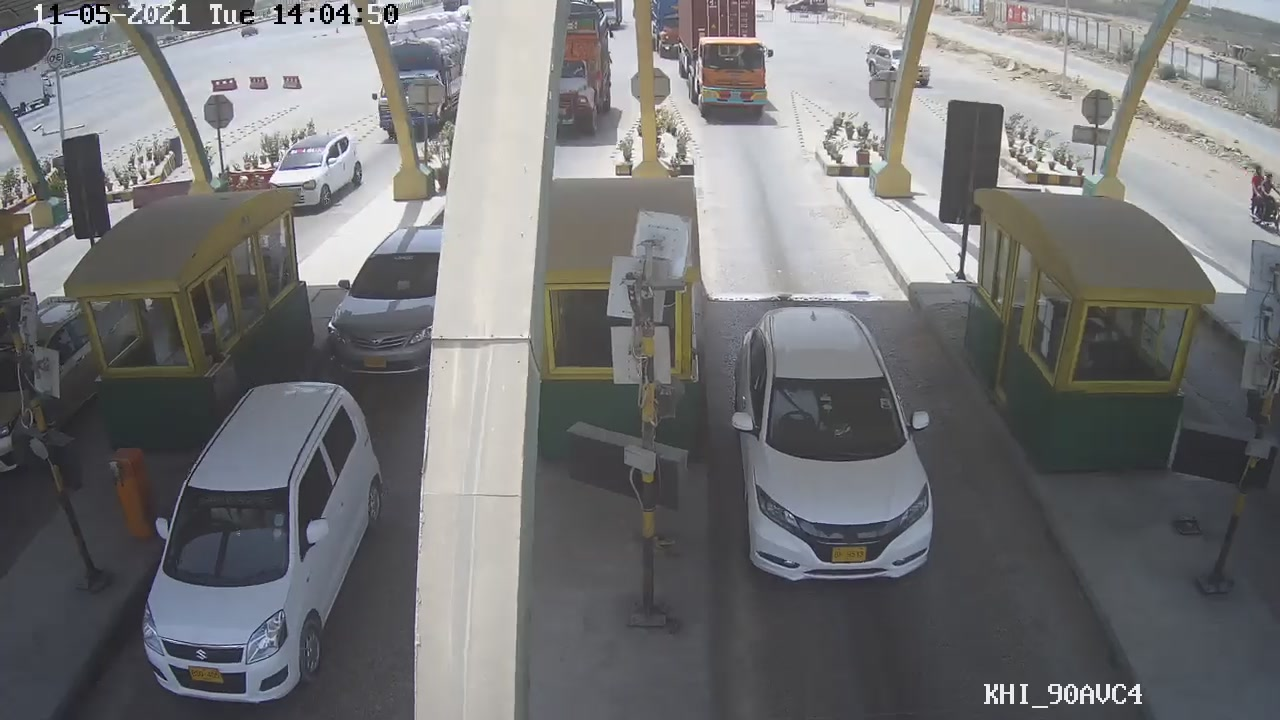F1: (725, 298, 948, 592)
